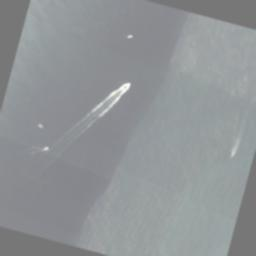boat: (42, 146, 50, 150), (127, 34, 133, 38), (37, 124, 43, 127), (126, 82, 130, 86), (230, 155, 232, 157)
